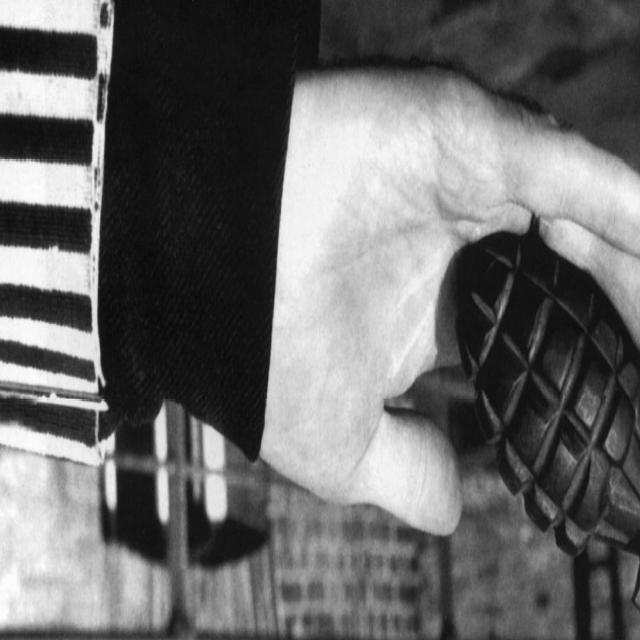grenade: (455, 234, 640, 560)
